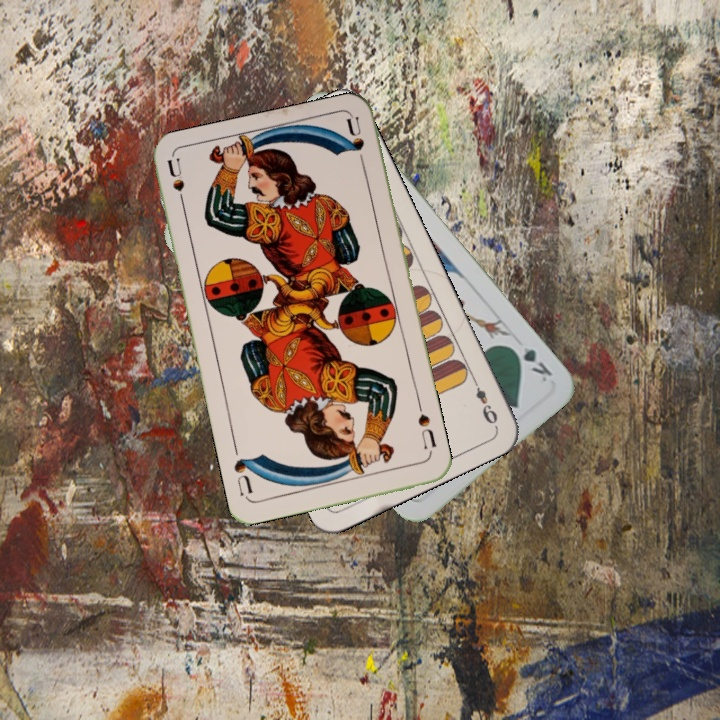E9: (468, 373, 501, 427)
GK: (506, 341, 555, 385)
SU: (164, 156, 189, 215), (414, 400, 439, 458)
